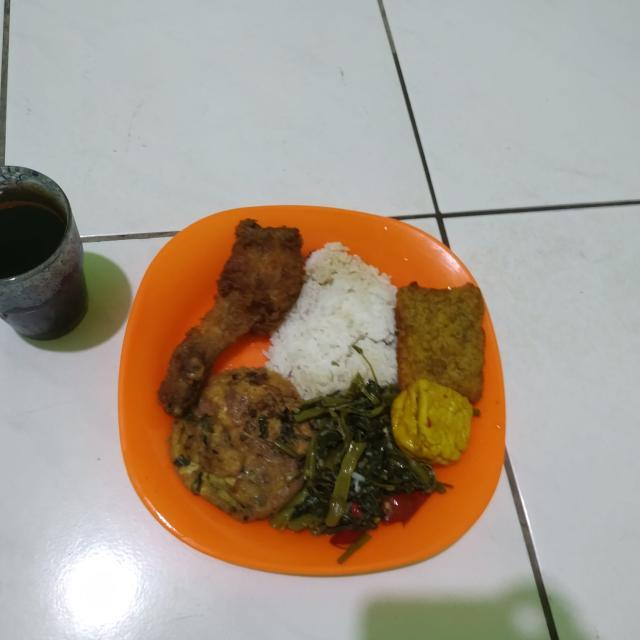ayam_goreng: (142, 176, 325, 412)
nasi_putih: (255, 226, 402, 394)
telur_ayam_dadar: (169, 348, 327, 520)
